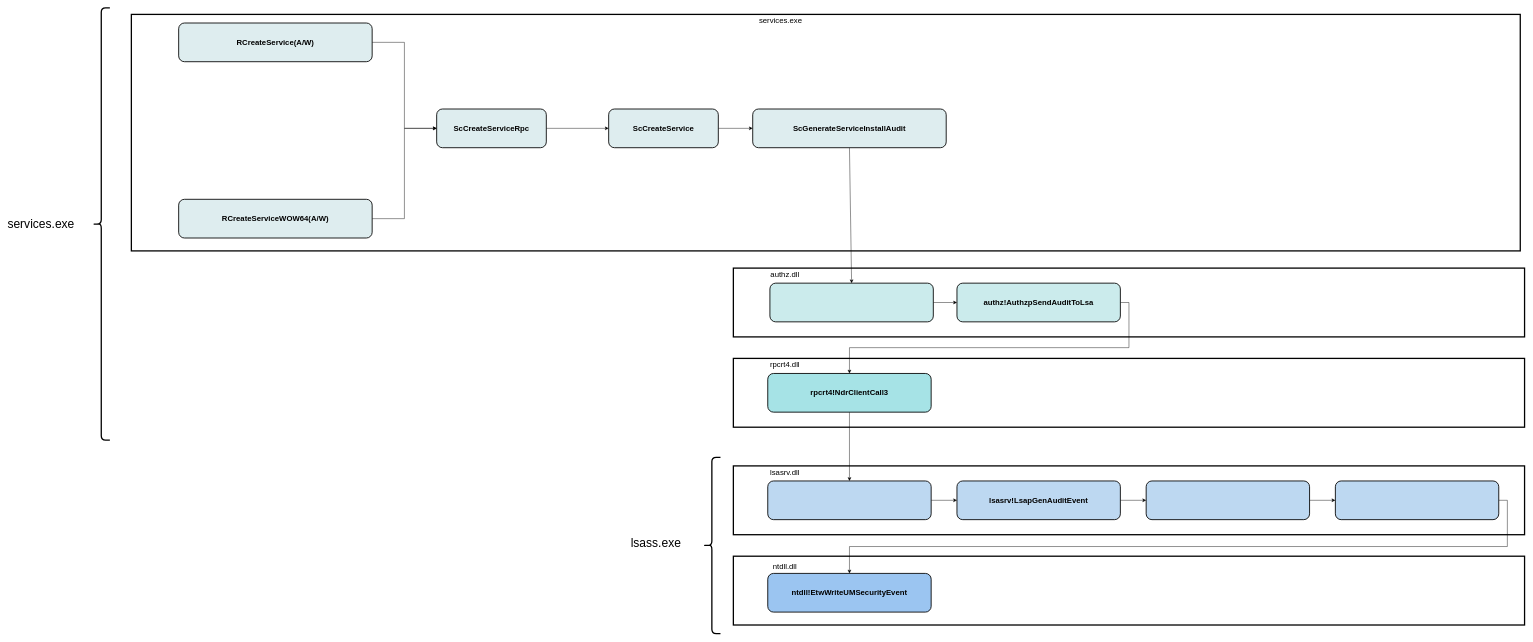
The diagram is 1533 pixels wide and 642 high, and some of its shapes have lost their labels. The centre of each missing label's shape, as x and y in pixels:
authz!AuthziLogAuditEvent: point (851, 302)
lsasrv!AdtpWriteToEtw: point (1417, 500)
lsasrv!LsapAdtWriteLogEx: point (1228, 500)
lsasrv!LsarGenAuditEvent: point (849, 500)
